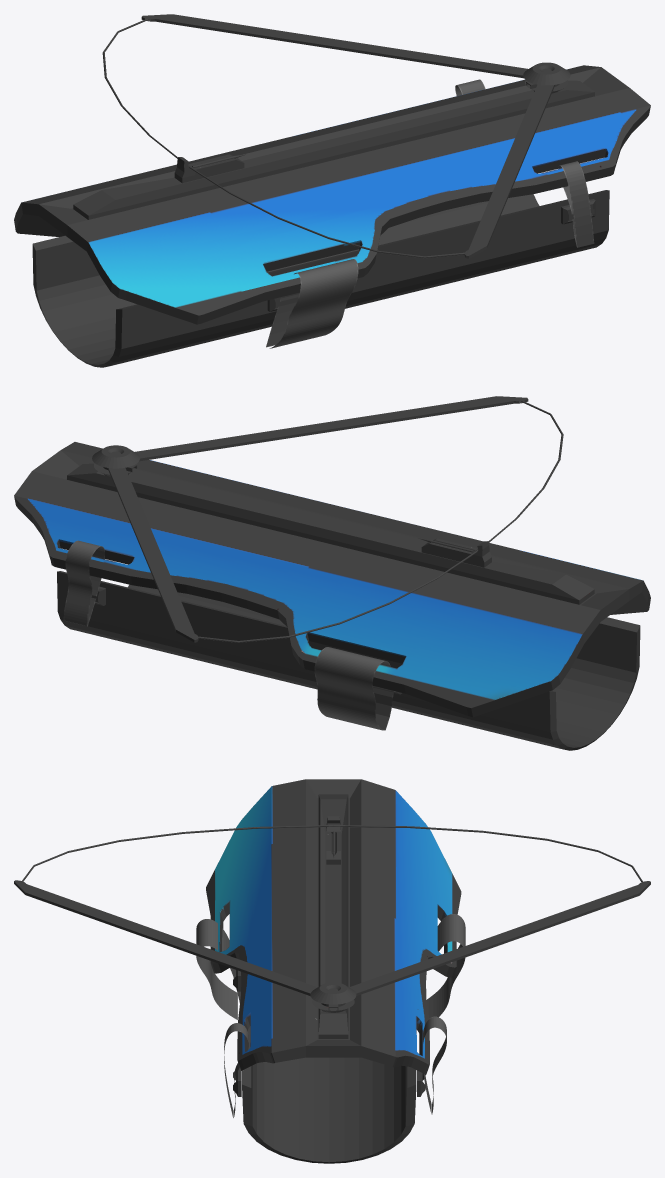
Rendered from armbow.fbx.
The picture shows the model from 3 angles, top to bottom: view 1: azimuth 30°, elevation 25°; view 2: azimuth 150°, elevation 25°; view 3: azimuth 270°, elevation 25°; orthographic projection. The views are drawn at different scales.
Parts seen in each view (by area): view 1: Cube.002; view 2: Cube.002; view 3: Cube.002.
Boxes of the visible parts, x1=… form: Cube.002: x1=14, y1=14, x2=650, y2=367; Cube.002: x1=14, y1=396, x2=650, y2=750; Cube.002: x1=14, y1=779, x2=650, y2=1163.
Bounding box in the file's own units: 90.91 × 26.55 × 91.16.
